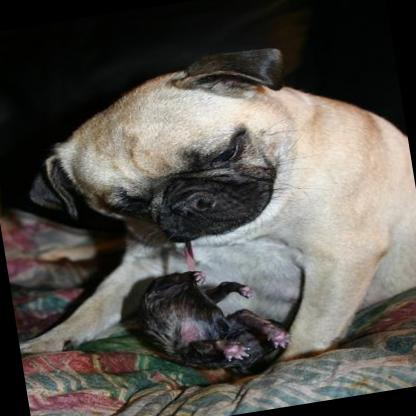pug: (0, 23, 416, 407)
